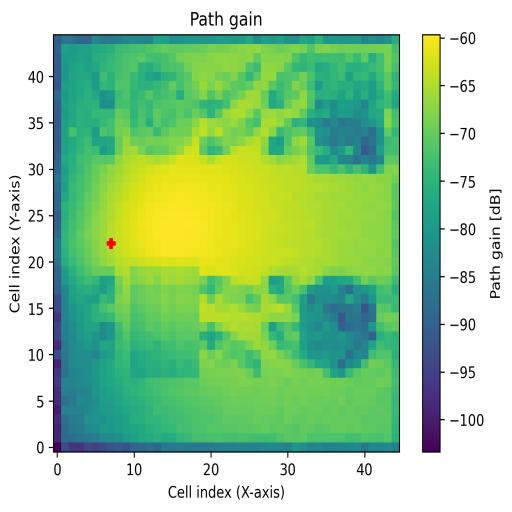Concrete: (307, 52, 384, 174)
Glass: (130, 60, 199, 155)
Metal: (285, 275, 377, 378)
Wood: (130, 266, 200, 376)
